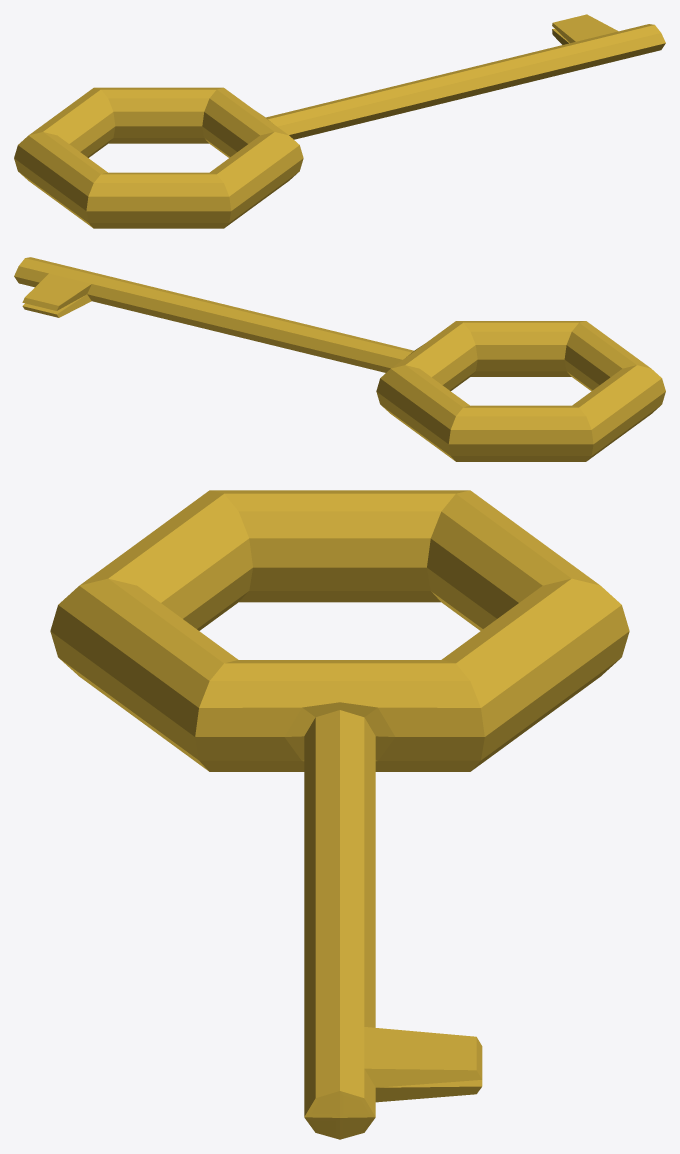
Rendered from key.fbx.
The picture shows the model from 3 angles, top to bottom: view 1: azimuth 30°, elevation 25°; view 2: azimuth 150°, elevation 25°; view 3: azimuth 270°, elevation 25°; orthographic projection. The views are drawn at different scales.
Visible parts, largest first — view 1: Torus; view 2: Torus; view 3: Torus.
Boxes of the visible parts, bbox=[...] form: Torus: bbox=[14, 14, 665, 228]; Torus: bbox=[14, 257, 665, 461]; Torus: bbox=[50, 490, 629, 1139].
Bounding box in the file's own units: 605 × 50 × 250.
